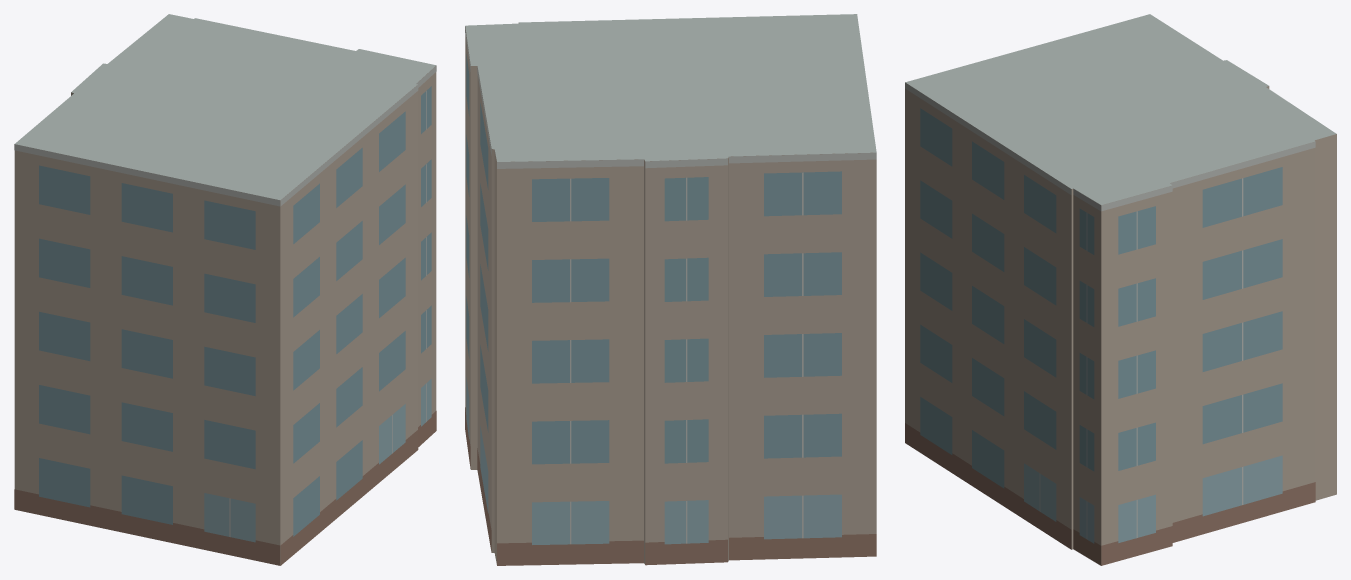
The model's file is survey-upis-32637682.glb.
3 renders of one model, left to right at view 1: azimuth 30°, elevation 25°; view 2: azimuth 150°, elevation 25°; view 3: azimuth 270°, elevation 25°, orthographic. The views are drawn at different scales.
Visible parts, largest first — view 1: survey-upis-32637682.tmp; view 2: survey-upis-32637682.tmp; view 3: survey-upis-32637682.tmp.
Boxes of the visible parts, x1,y1,x2,y2 form: survey-upis-32637682.tmp: (14, 14, 436, 565); survey-upis-32637682.tmp: (465, 14, 876, 565); survey-upis-32637682.tmp: (905, 14, 1336, 565).
Size of the model in its own units: 16.16 by 14.2 by 15.41.
